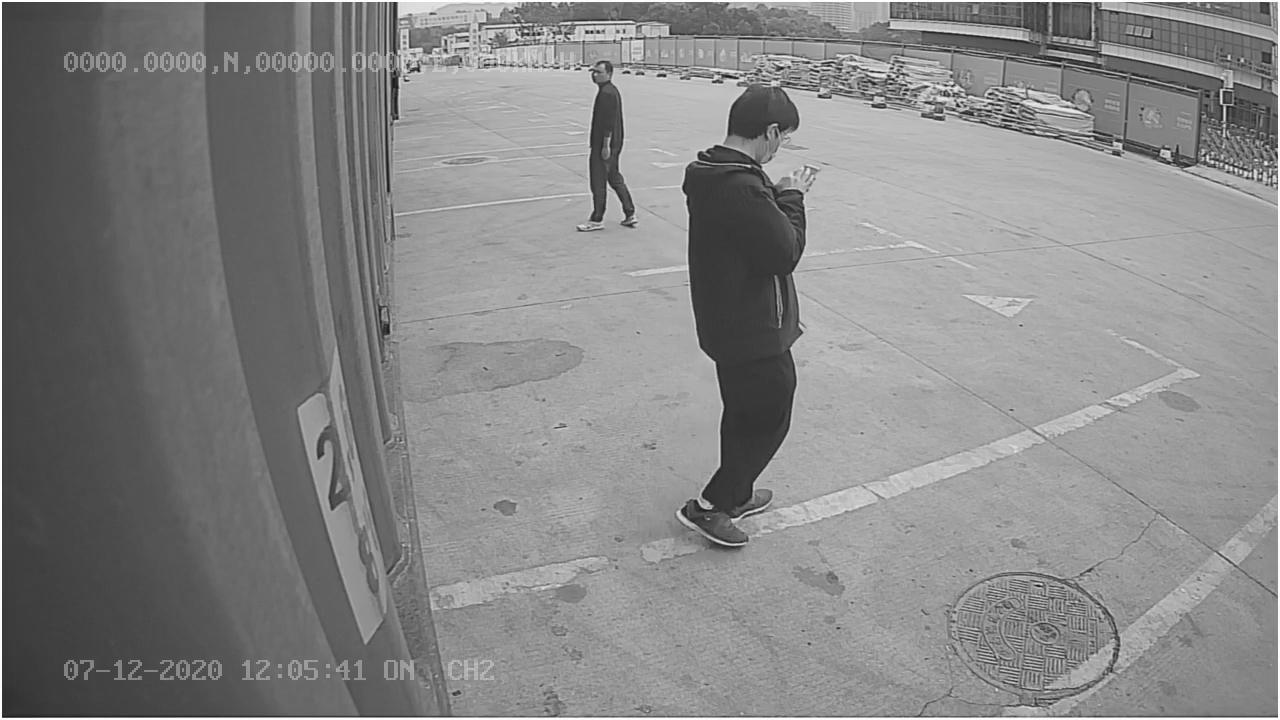person: (669, 81, 815, 545)
